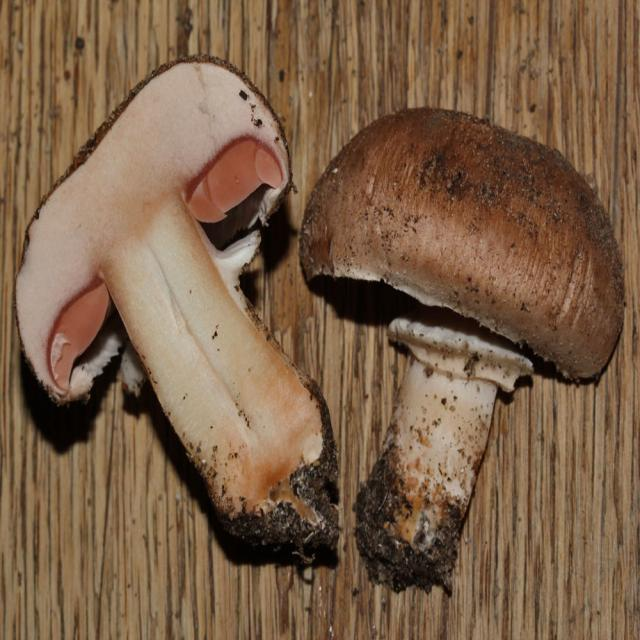Agaricus bisporus: (18, 58, 340, 564), (301, 110, 621, 582)
